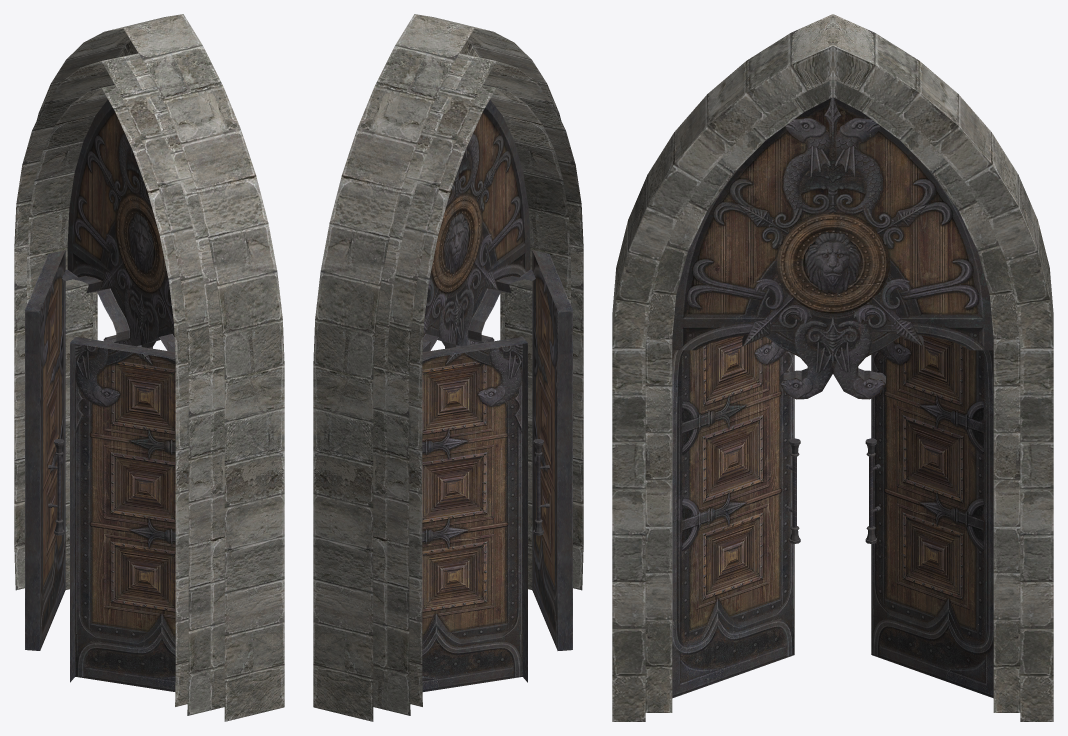
File: bg_lut_lucastle_churchdoor01a_sm_ksh.FBX
3 views of the same model, side by side, from view 1: azimuth 30°, elevation 25°; view 2: azimuth 150°, elevation 25°; view 3: azimuth 270°, elevation 25° (orthographic). The views are drawn at different scales.
Visible parts, largest first — view 1: bg_lut_lucastle_churchdoor01a_sm_ksh; view 2: bg_lut_lucastle_churchdoor01a_sm_ksh; view 3: bg_lut_lucastle_churchdoor01a_sm_ksh.
Boxes of the visible parts, x1=… form: bg_lut_lucastle_churchdoor01a_sm_ksh: x1=14, y1=14, x2=284, y2=721; bg_lut_lucastle_churchdoor01a_sm_ksh: x1=313, y1=14, x2=583, y2=721; bg_lut_lucastle_churchdoor01a_sm_ksh: x1=612, y1=14, x2=1053, y2=721.
Size of the model in its own units: 143 by 621 by 368.
